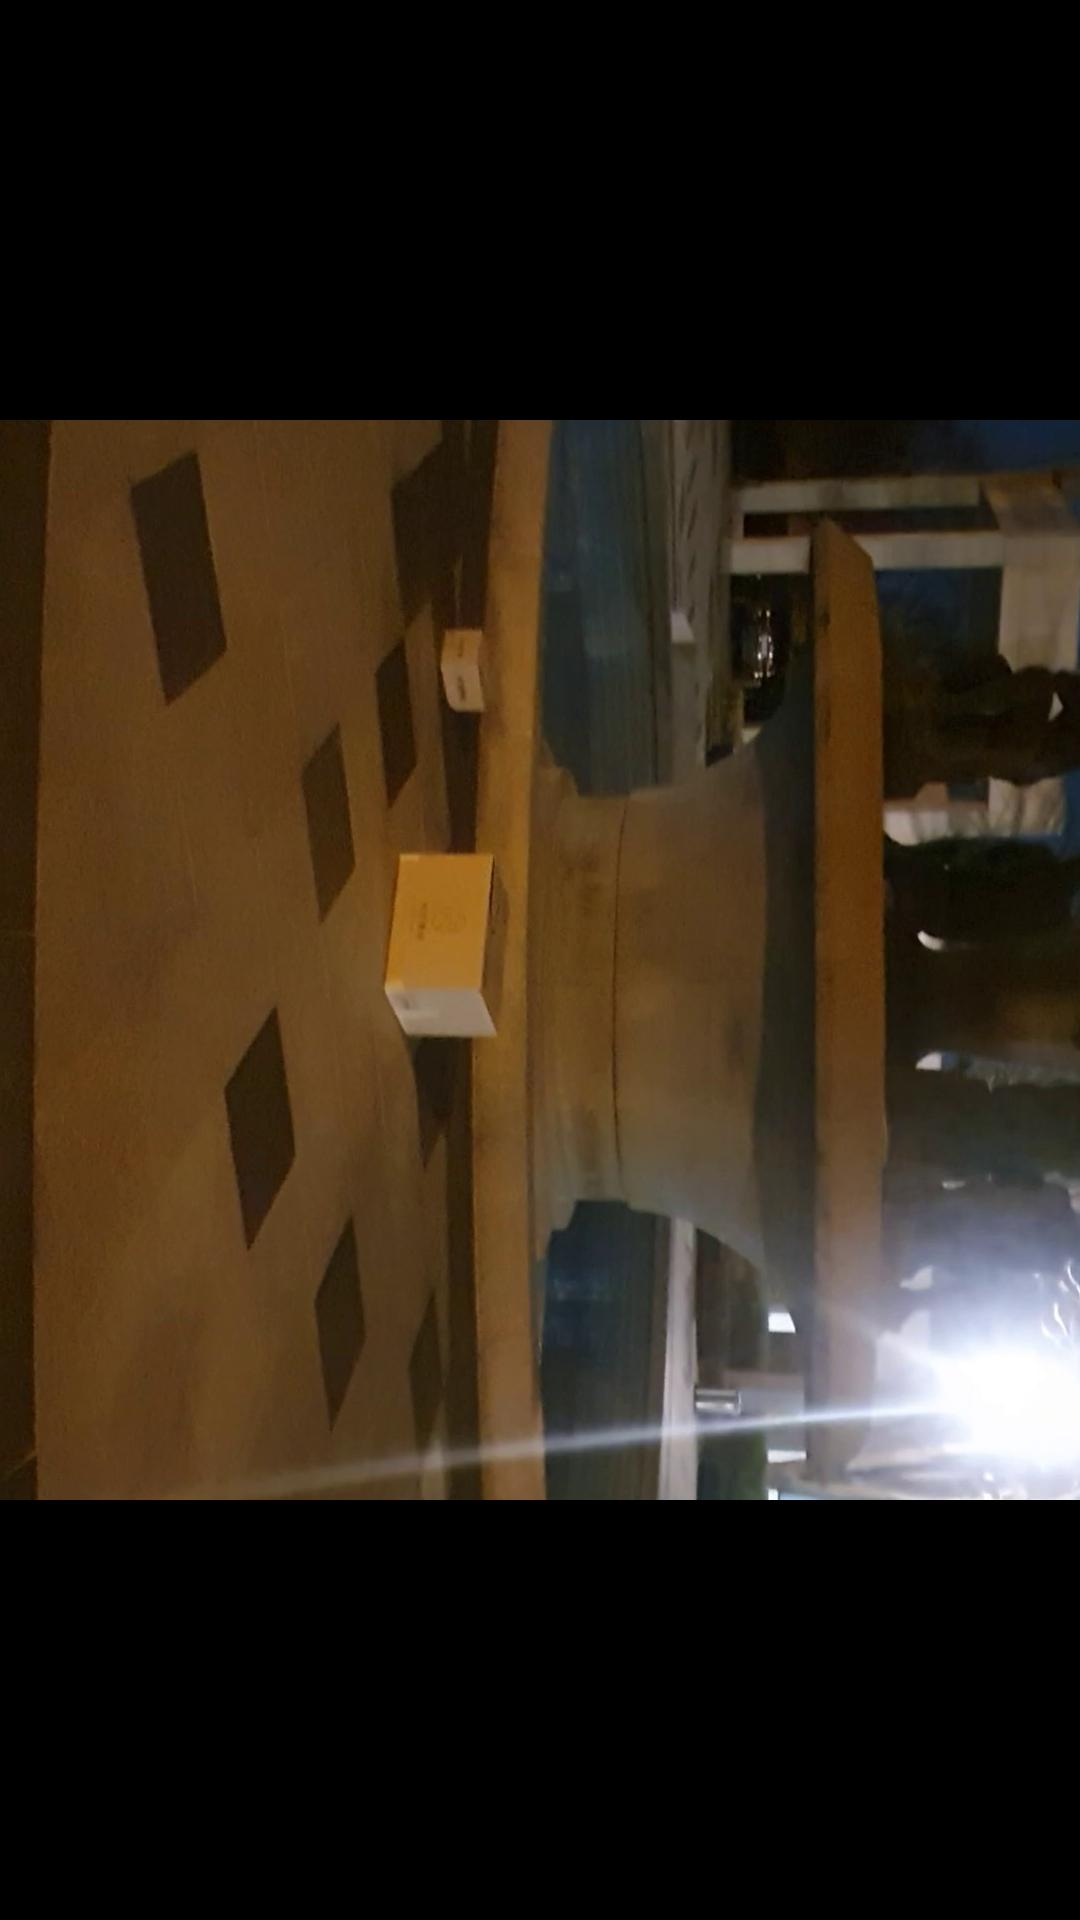Box: (375, 847, 531, 1055), (430, 628, 520, 715)
